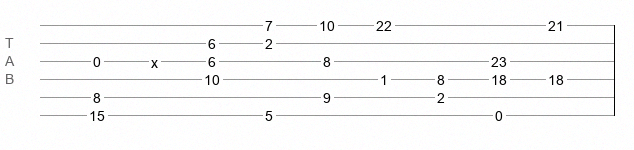0: (93, 54, 101, 64), (495, 108, 503, 118)
1: (380, 72, 388, 82)
10: (204, 72, 220, 82), (319, 18, 335, 28)
15: (89, 108, 105, 118)
18: (491, 72, 507, 82), (548, 72, 564, 82)
2: (265, 36, 273, 46), (437, 90, 445, 100)
21: (548, 18, 564, 28)
22: (376, 18, 392, 28)
23: (491, 54, 507, 64)
5: (265, 108, 273, 118)
6: (208, 54, 216, 64), (208, 36, 216, 46)
7: (265, 18, 273, 28)
8: (93, 90, 101, 100), (323, 54, 331, 64), (437, 72, 445, 82)
9: (323, 90, 331, 100)
x: (151, 55, 158, 63)
